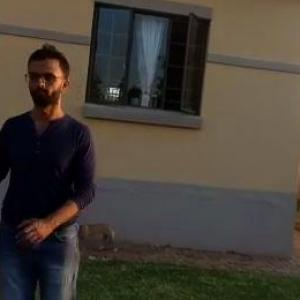follow: (0, 33, 102, 299)
null: (75, 217, 123, 255)
